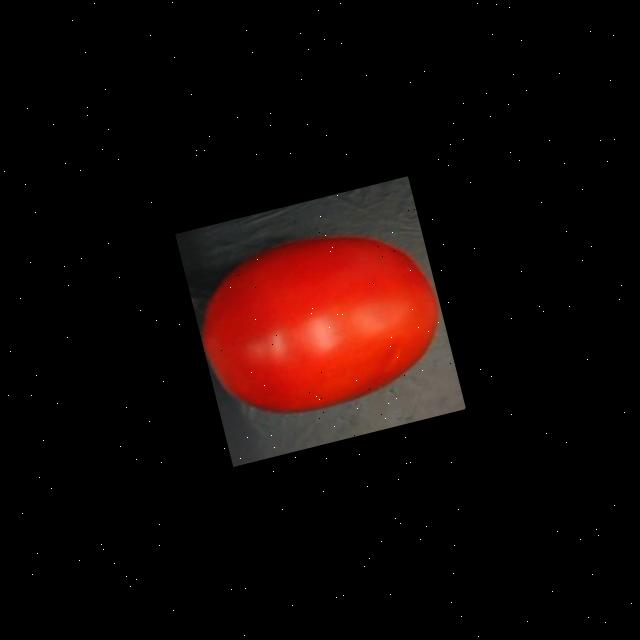tomato: (183, 200, 458, 436)
